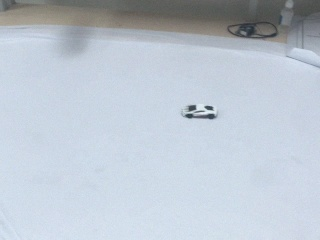toy_car: (181, 104, 217, 119)
